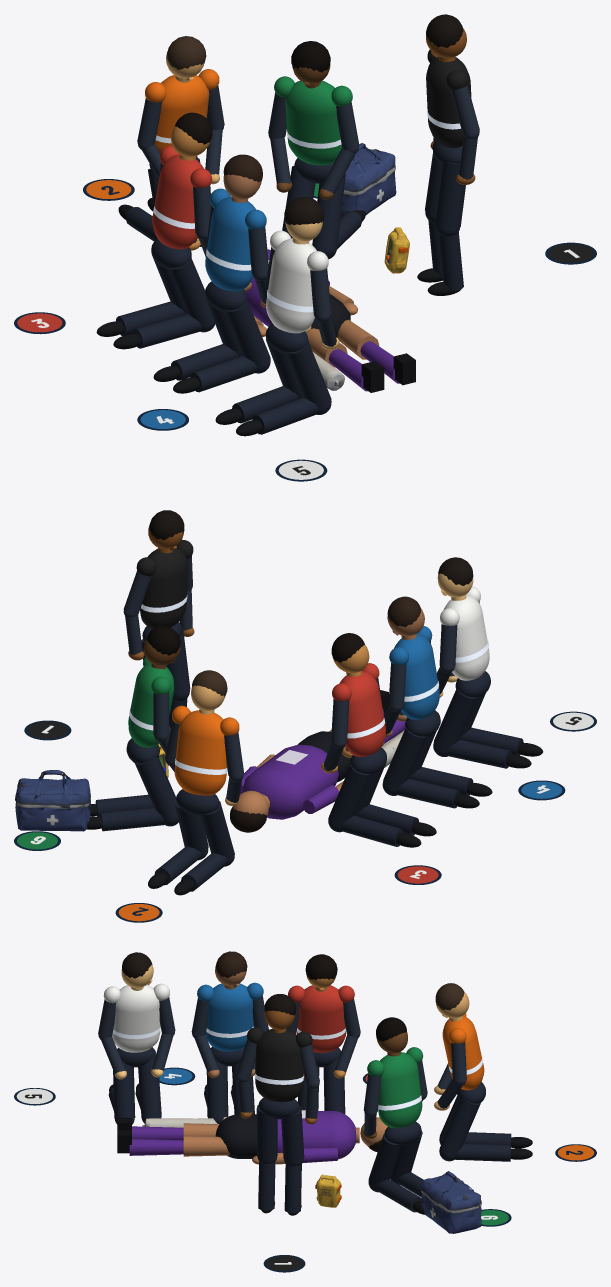
File: arrest-0.glb
3 renders of one model, top to bottom at view 1: azimuth 30°, elevation 25°; view 2: azimuth 150°, elevation 25°; view 3: azimuth 270°, elevation 25°, orthographic. The views are drawn at different scales.
Visible parts, largest first — view 1: n117, n216, n183, n150, n48, n249, n84, n208, n264, n241, n175, n177 (+44 smaller); view 2: n48, n21, n84, n249, n150, n183, n216, n117, n142, n231, n198, n165 (+42 smaller); view 3: n249, n48, n117, n216, n183, n150, n21, n23, n84, n99, n231, n274 (+46 smaller).
Boxes of the visible parts, bbox=[...] form: n117: bbox=[285, 80, 341, 165]; n216: bbox=[266, 238, 316, 333]; n183: bbox=[205, 196, 255, 291]; n150: bbox=[152, 154, 203, 249]; n48: bbox=[341, 143, 396, 216]; n249: bbox=[426, 56, 471, 148]; n84: bbox=[155, 75, 209, 152]; n208: bbox=[224, 299, 270, 368]; n264: bbox=[435, 161, 465, 229]; n241: bbox=[286, 341, 331, 410]; n175: bbox=[168, 258, 213, 327]; n177: bbox=[132, 313, 202, 348]; n48: bbox=[15, 770, 90, 831]; n21: bbox=[242, 744, 338, 819]; n84: bbox=[174, 710, 226, 795]; n249: bbox=[140, 548, 187, 628]; n150: bbox=[339, 671, 386, 756]; n183: bbox=[394, 634, 439, 719]; n216: bbox=[443, 595, 489, 680]; n117: bbox=[128, 663, 174, 747]; n142: bbox=[134, 756, 177, 821]; n231: bbox=[433, 688, 478, 752]; n198: bbox=[383, 728, 427, 791]; n165: bbox=[328, 764, 371, 827]; n249: bbox=[255, 1028, 303, 1102]; n48: bbox=[421, 1171, 481, 1233]; n117: bbox=[378, 1052, 422, 1128]; n216: bbox=[112, 985, 160, 1052]; n183: bbox=[205, 983, 253, 1051]; n150: bbox=[296, 985, 345, 1052]; n21: bbox=[277, 1111, 356, 1159]; n23: bbox=[215, 1114, 256, 1158]; n84: bbox=[442, 1015, 484, 1090]; n99: bbox=[440, 1098, 480, 1156]; n231: bbox=[138, 1056, 161, 1117]; n274: bbox=[281, 1106, 304, 1163].
Size of the model in its own units: 3.94 by 1.99 by 4.74.
Materials: 75 (9 with a texture image).
